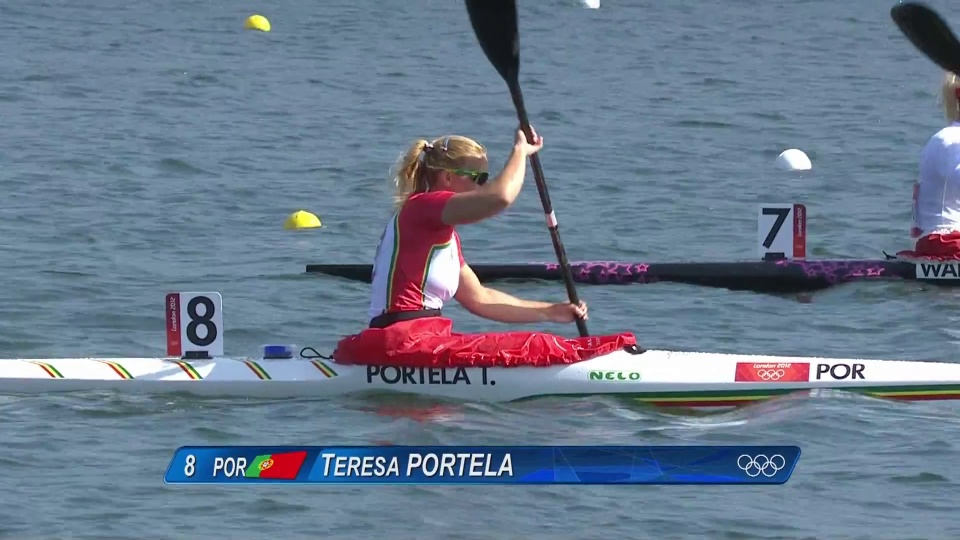person: (336, 124, 600, 337)
